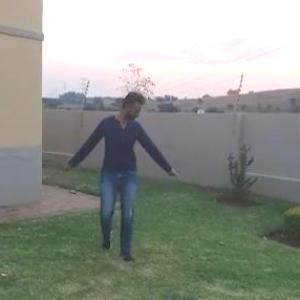land: (53, 88, 189, 270)
